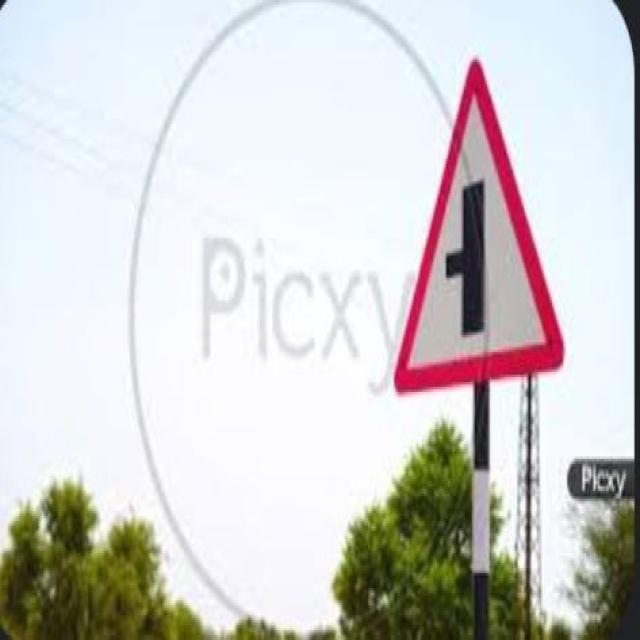Sideroad_toleft: (395, 56, 578, 396)
